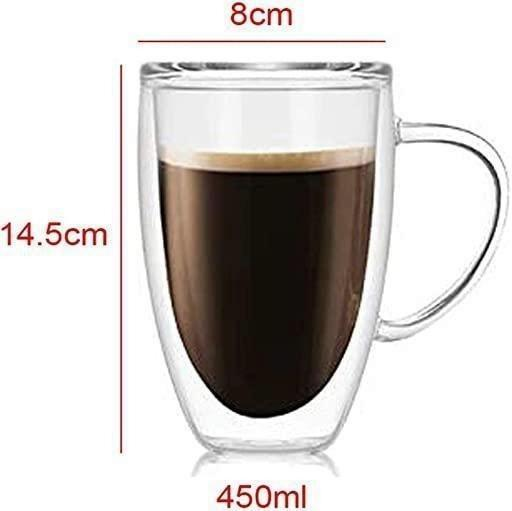glass-mug: (135, 52, 512, 456)
